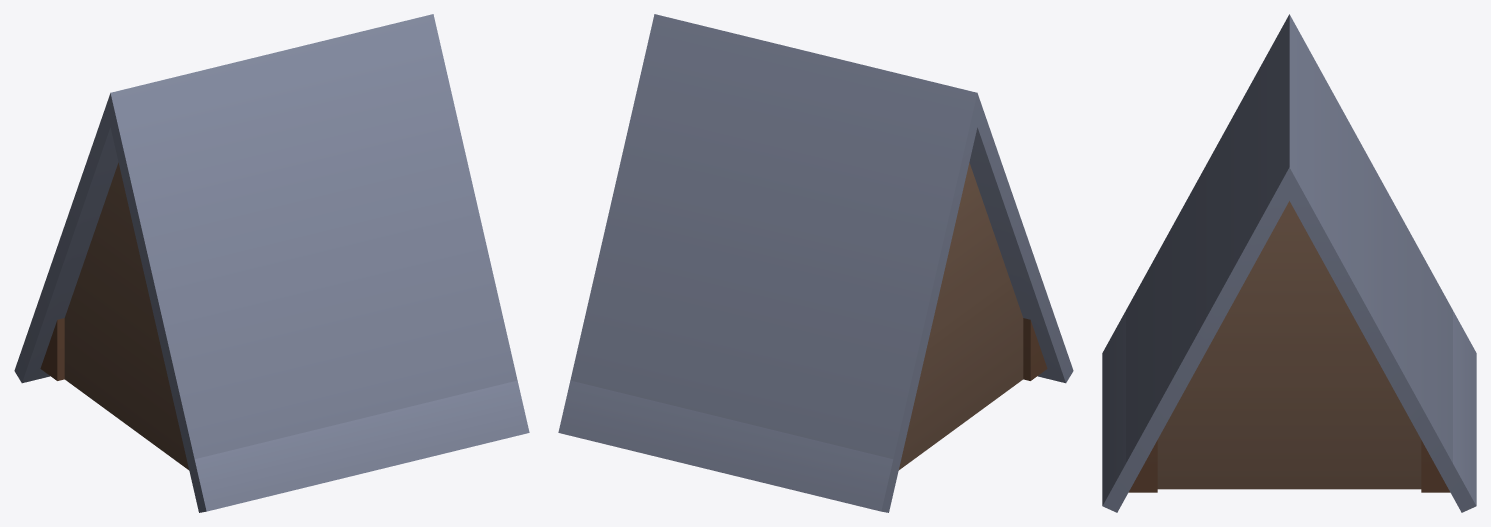
File: roof-high-gable.glb
3 renders of one model, left to right at view 1: azimuth 30°, elevation 25°; view 2: azimuth 150°, elevation 25°; view 3: azimuth 270°, elevation 25°, orthographic. The views are drawn at different scales.
Visible parts, largest first — view 1: roof-high-gable; view 2: roof-high-gable; view 3: roof-high-gable.
Boxes of the visible parts, box(x1,y1,x2,y2) form: roof-high-gable: box(14, 14, 529, 512); roof-high-gable: box(558, 14, 1073, 512); roof-high-gable: box(1102, 14, 1476, 512).
Size of the model in its own units: 1.1 by 1.16 by 1.13.
Materials: 1 (1 with a texture image).
